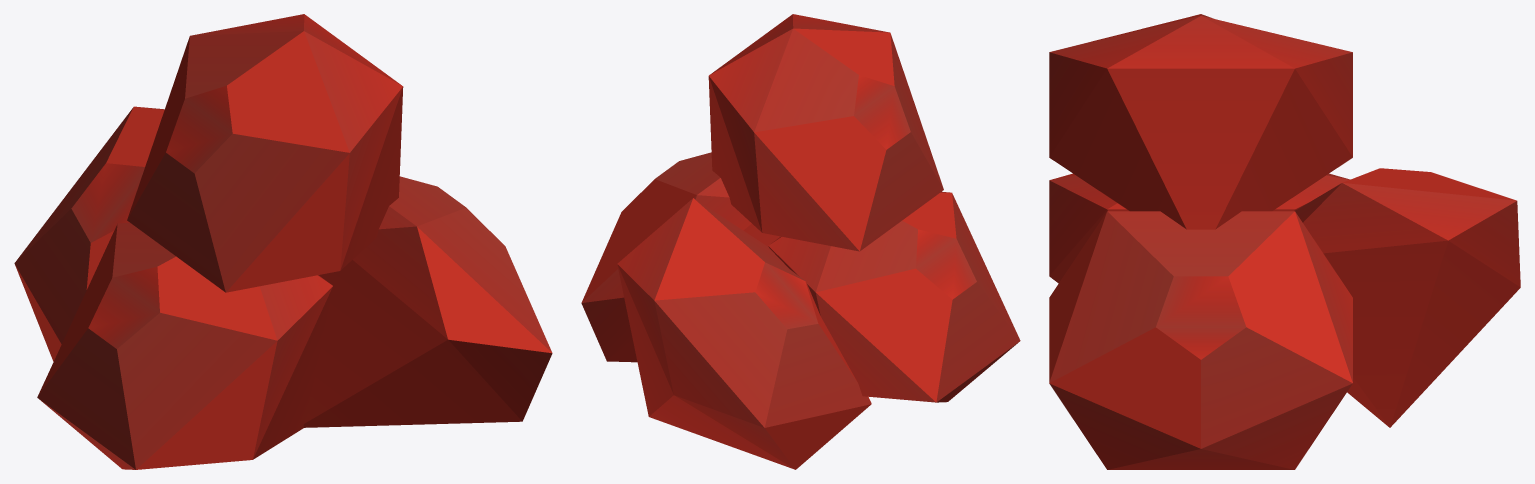
File: Red_stone_revard.fbx
3 renders of one model, left to right at view 1: azimuth 30°, elevation 25°; view 2: azimuth 150°, elevation 25°; view 3: azimuth 270°, elevation 25°, orthographic. The views are drawn at different scales.
Parts seen in each view (by area): view 1: 2.027; view 2: 2.027; view 3: 2.027.
Part boxes in pixels (left/top/right/bottom): 2.027: left=14, top=14, right=552, bottom=469; 2.027: left=581, top=14, right=1020, bottom=469; 2.027: left=1049, top=14, right=1520, bottom=469.
Bounding box in the file's own units: 0.7659 × 0.7695 × 0.6839.
